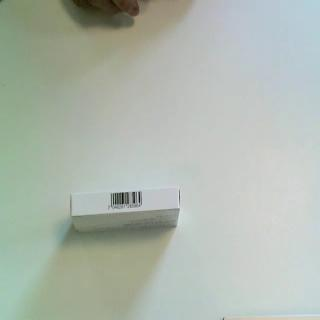oxycontin15mg: (70, 185, 183, 237)
